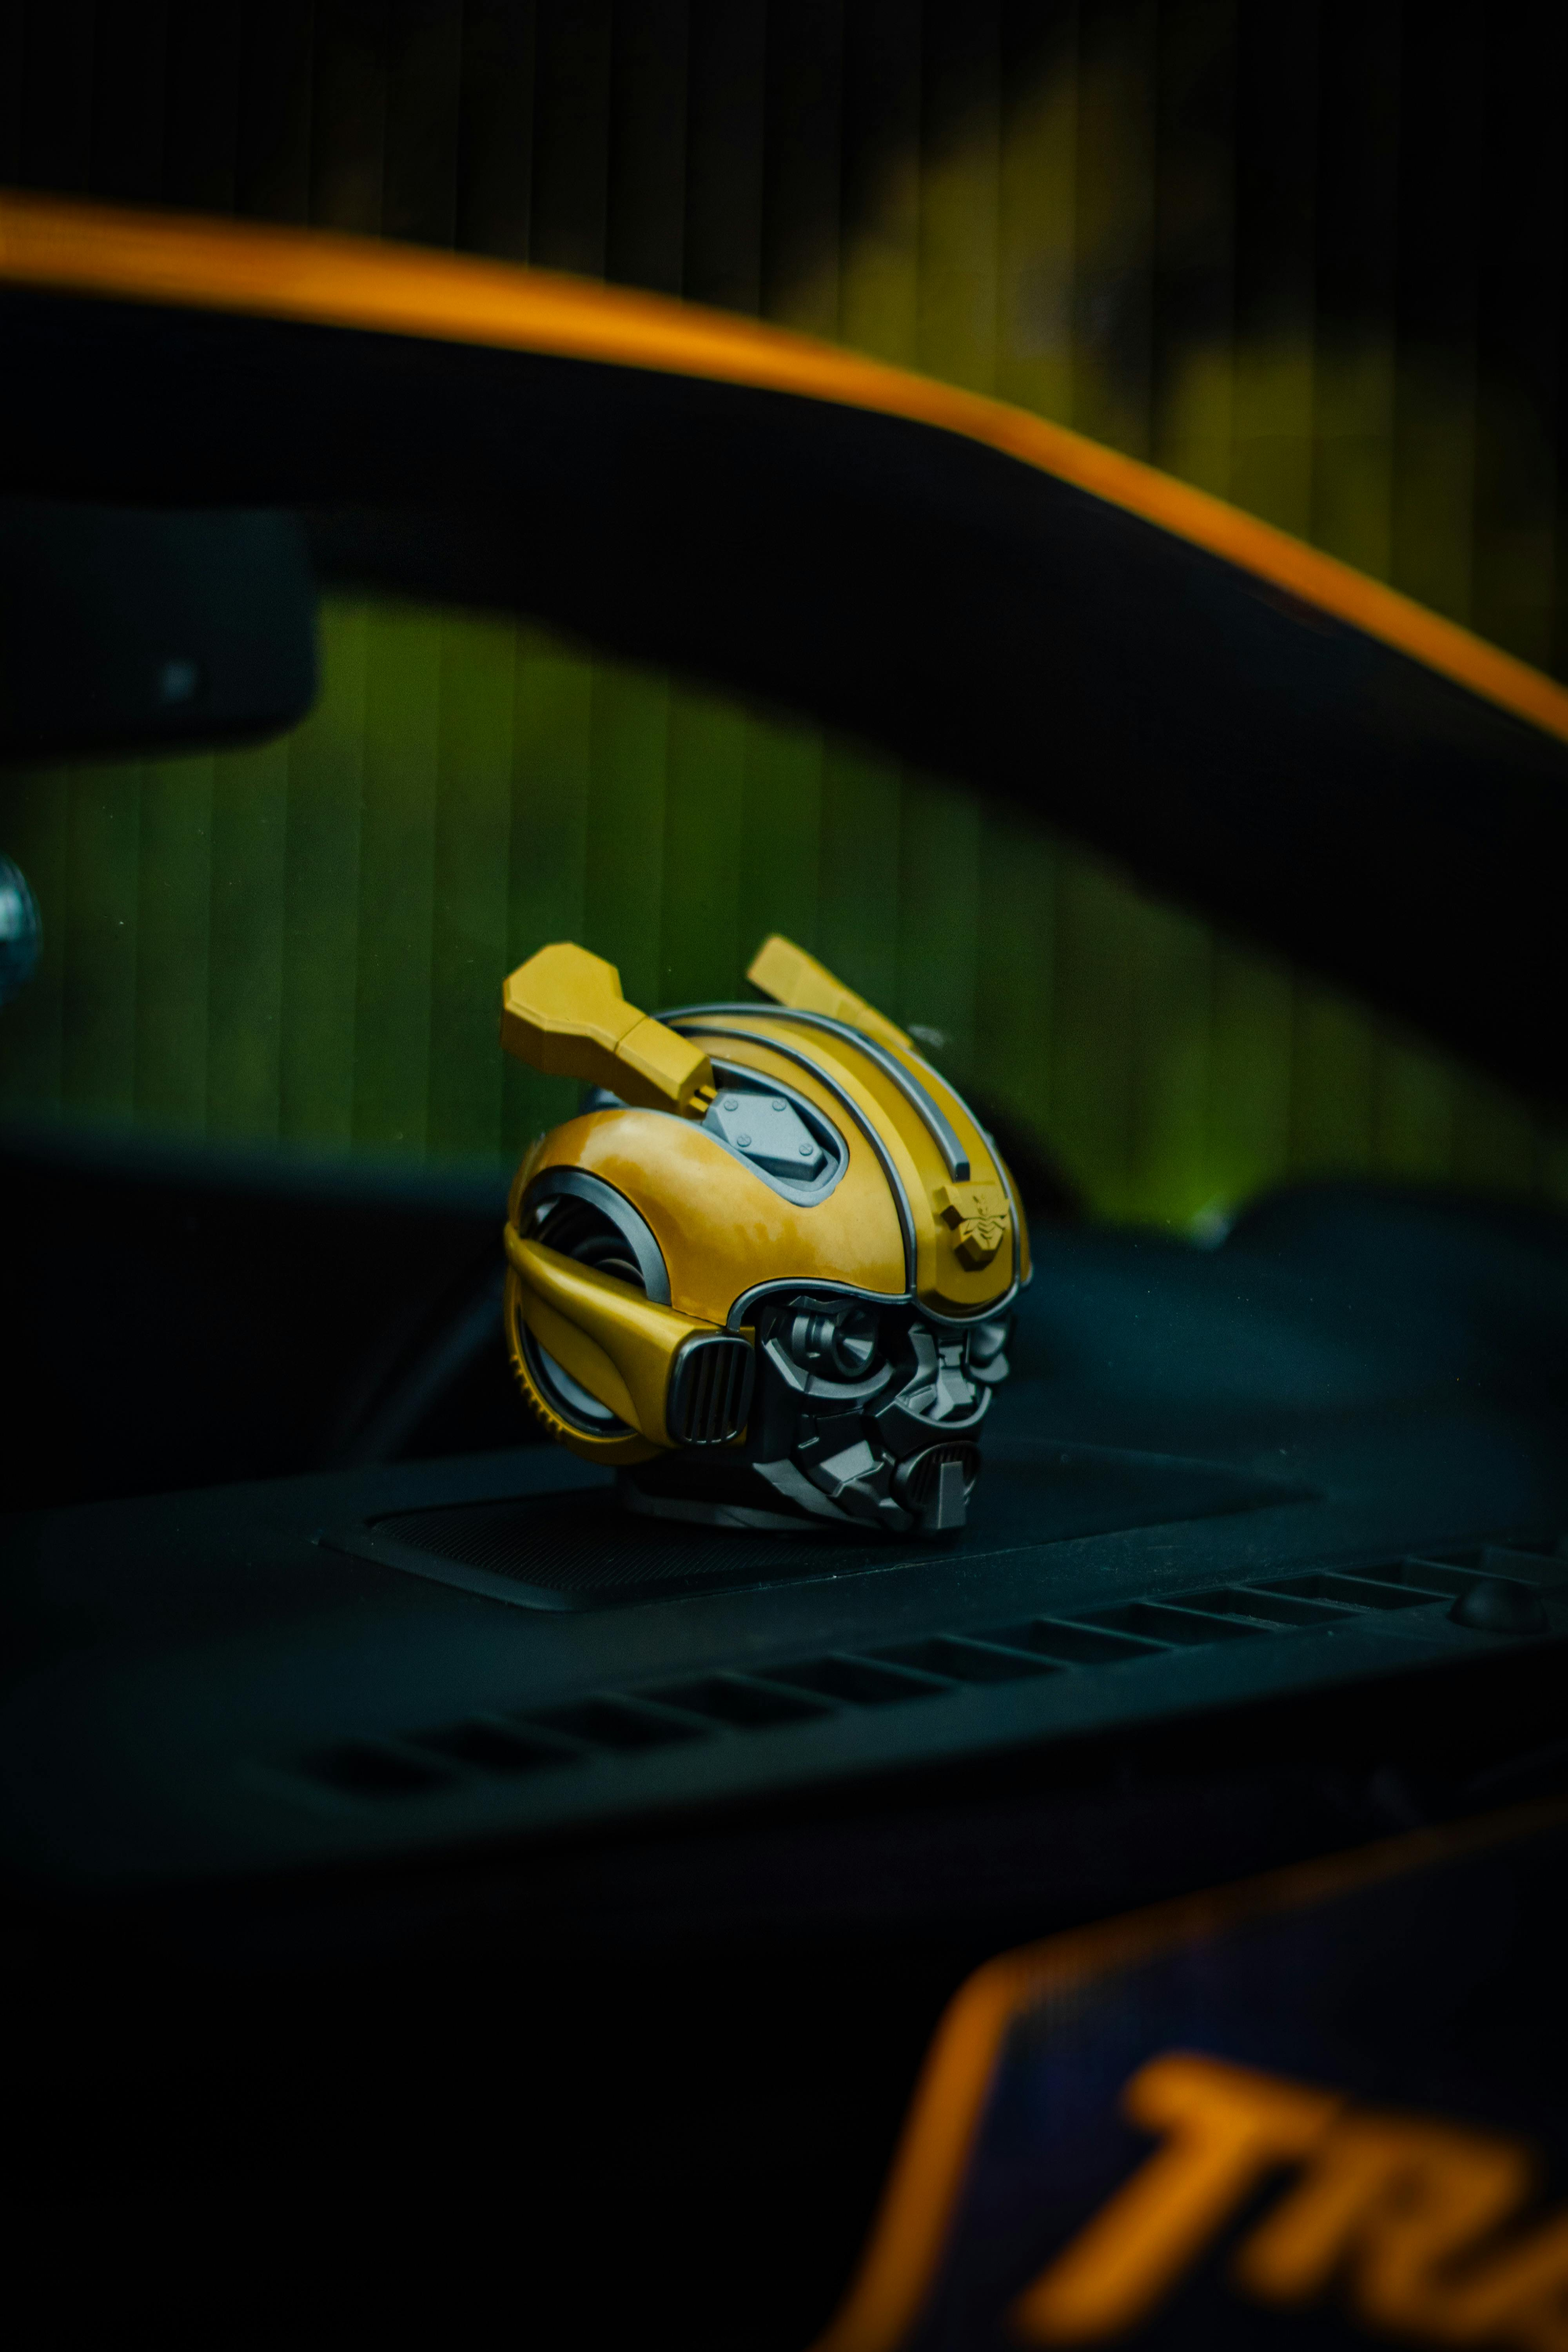capacete: (502, 924, 1034, 1551)
